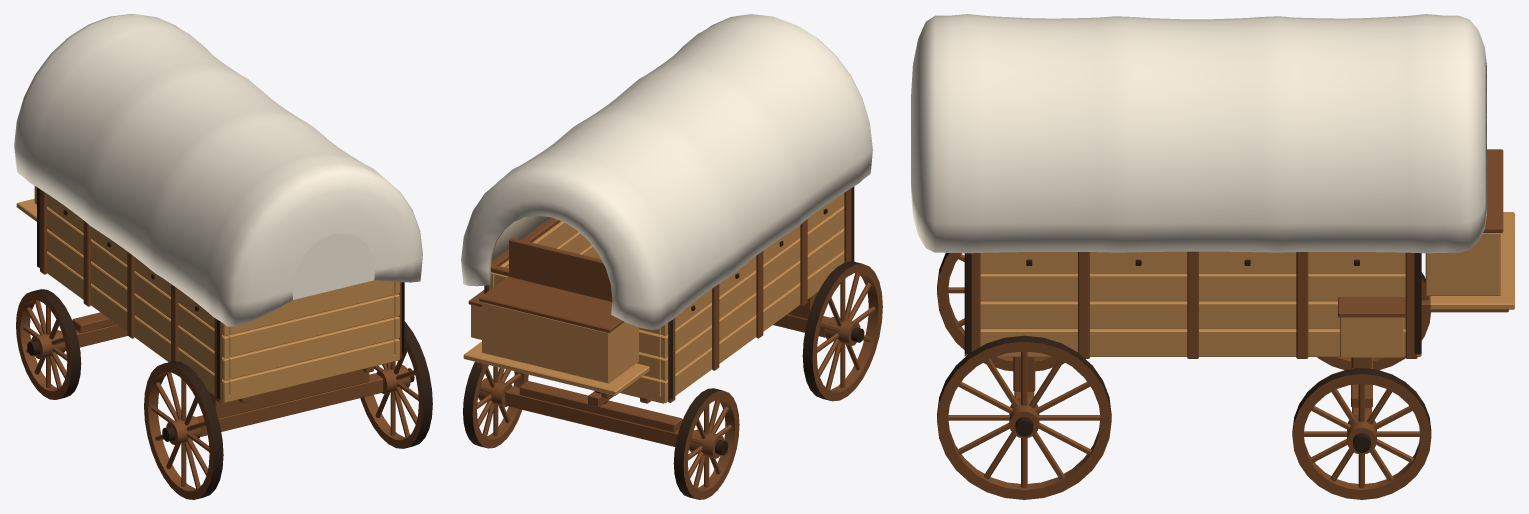
Rendered from jia-carruaje.glb.
3 views of the same model, side by side, from view 1: azimuth 30°, elevation 25°; view 2: azimuth 150°, elevation 25°; view 3: azimuth 270°, elevation 25° (orthographic). The views are drawn at different scales.
Visible parts, largest first — view 1: JIA_Canvas, JIA_Body, JIA_Wheel_RL, JIA_Wheel_FL, JIA_Chassis, JIA_Wheel_RR, JIA_FrontAxle, JIA_Details; view 2: JIA_Canvas, JIA_Body, JIA_DriverSeat, JIA_Wheel_RL, JIA_Wheel_FL, JIA_FrontAxle, JIA_Wheel_FR, JIA_Details, JIA_Chassis; view 3: JIA_Canvas, JIA_Body, JIA_Wheel_RR, JIA_Wheel_FR, JIA_DriverSeat, JIA_Details, JIA_Wheel_RL, JIA_Wheel_FL, JIA_Chassis.
Part boxes in pixels (x1,y1,x2,y2): JIA_Canvas: (14, 14, 422, 326); JIA_Body: (40, 189, 401, 403); JIA_Wheel_RL: (144, 361, 223, 499); JIA_Wheel_FL: (16, 289, 81, 399); JIA_Chassis: (196, 369, 383, 436); JIA_Wheel_RR: (360, 321, 432, 448); JIA_FrontAxle: (60, 312, 127, 350); JIA_Details: (37, 187, 404, 399); JIA_Canvas: (461, 14, 872, 329); JIA_Body: (487, 188, 851, 403); JIA_DriverSeat: (463, 238, 649, 398); JIA_Wheel_RL: (802, 261, 882, 401); JIA_Wheel_FL: (673, 388, 739, 499); JIA_FrontAxle: (505, 381, 694, 450); JIA_Wheel_FR: (463, 361, 528, 448); JIA_Details: (468, 186, 854, 399); JIA_Chassis: (588, 292, 830, 407); JIA_Canvas: (911, 14, 1486, 253); JIA_Body: (964, 251, 1421, 368); JIA_Wheel_RR: (937, 335, 1111, 499); JIA_Wheel_FR: (1292, 368, 1431, 499); JIA_DriverSeat: (1421, 149, 1514, 312); JIA_Details: (964, 253, 1421, 357); JIA_Wheel_RL: (937, 253, 1064, 371); JIA_Wheel_FL: (1317, 272, 1430, 370); JIA_Chassis: (1013, 357, 1035, 399).
Bounding box in the file's own units: 1.78 × 2.26 × 3.04.
